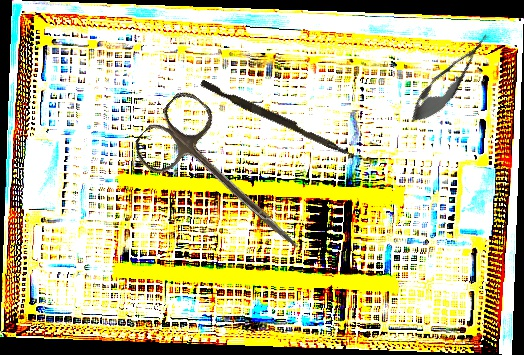Iris Scissors: (127, 85, 329, 277)
Micro Scissor: (402, 26, 499, 132)
Pusher: (198, 79, 360, 160)
